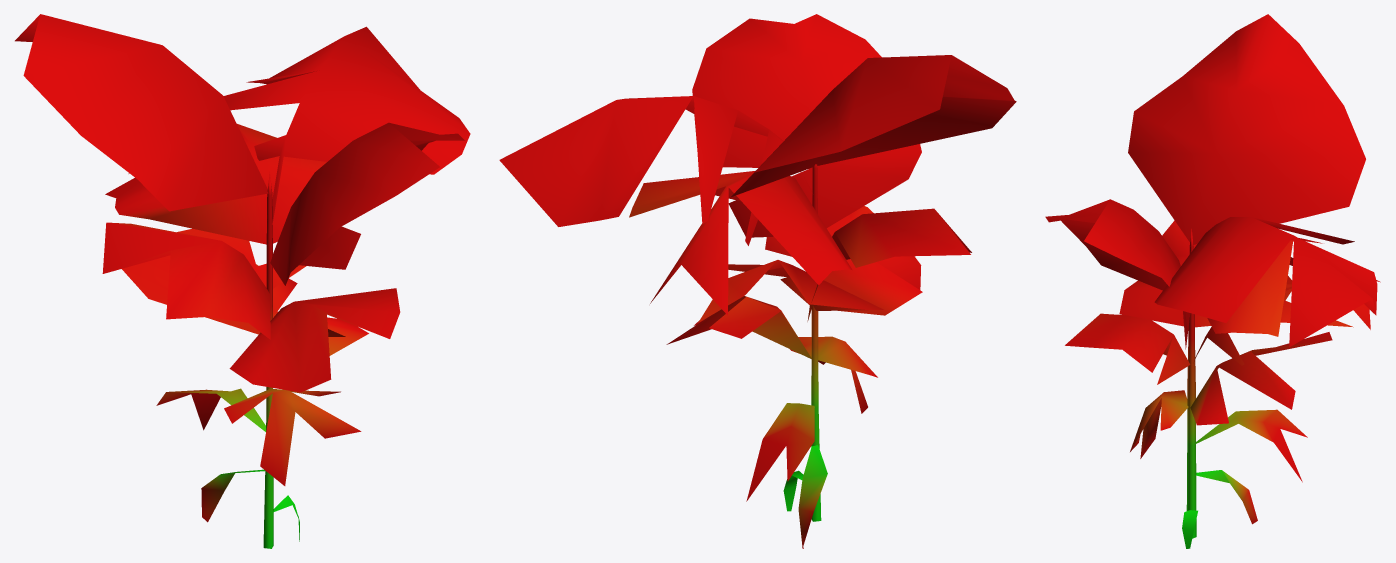
File: Cane Palm_LOD2_Var2_siBmK.fbx
3 views of the same model, side by side, from view 1: azimuth 30°, elevation 25°; view 2: azimuth 150°, elevation 25°; view 3: azimuth 270°, elevation 25° (orthographic). The views are drawn at different scales.
Parts seen in each view (by area): view 1: _410b_Var2_LOD2; view 2: _410b_Var2_LOD2; view 3: _410b_Var2_LOD2.
Boxes of the visible parts, bbox=[...] form: _410b_Var2_LOD2: bbox=[15, 14, 470, 548]; _410b_Var2_LOD2: bbox=[499, 14, 1016, 548]; _410b_Var2_LOD2: bbox=[1045, 14, 1380, 548].
Size of the model in its own units: 30.99 by 36.21 by 24.54.
